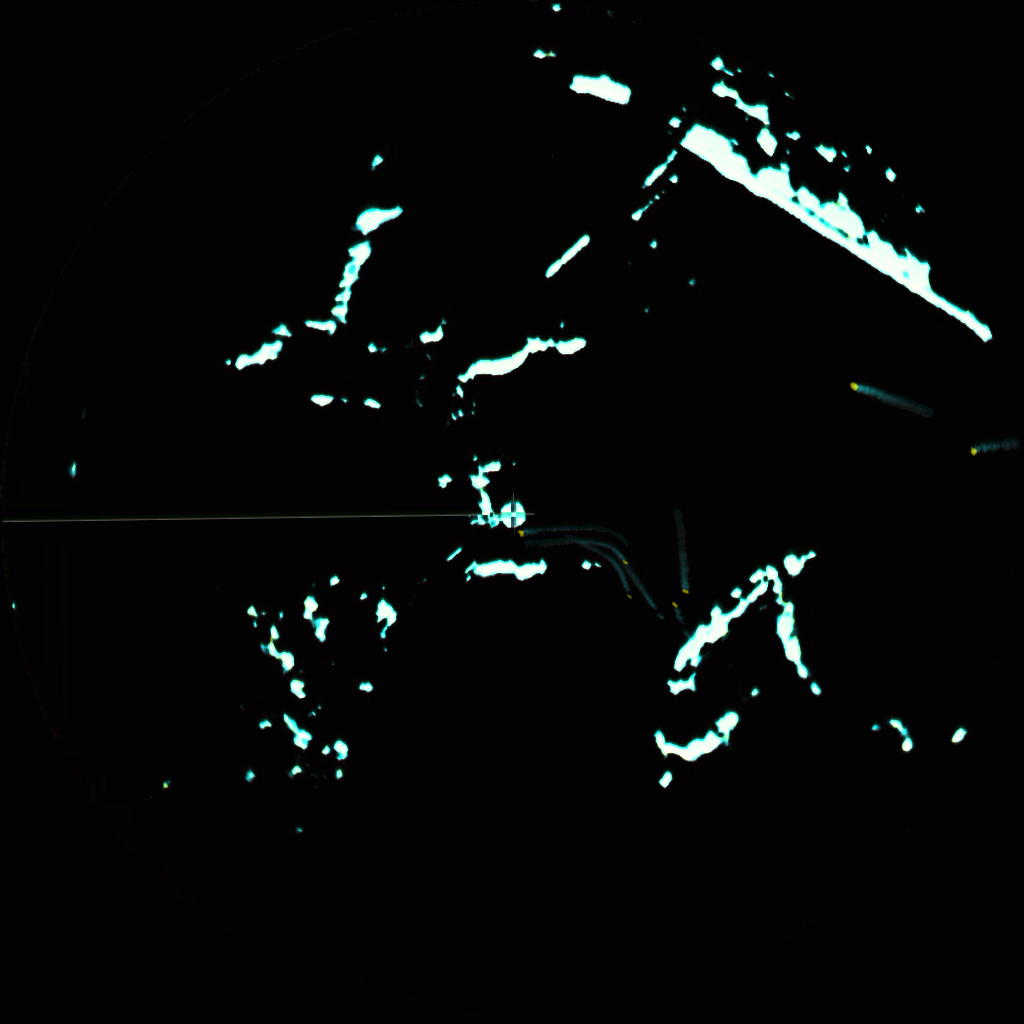B: (847, 378, 904, 407), (675, 539, 694, 595), (968, 438, 1017, 457), (671, 600, 687, 634), (617, 569, 634, 601), (608, 544, 629, 566), (517, 527, 558, 537)
